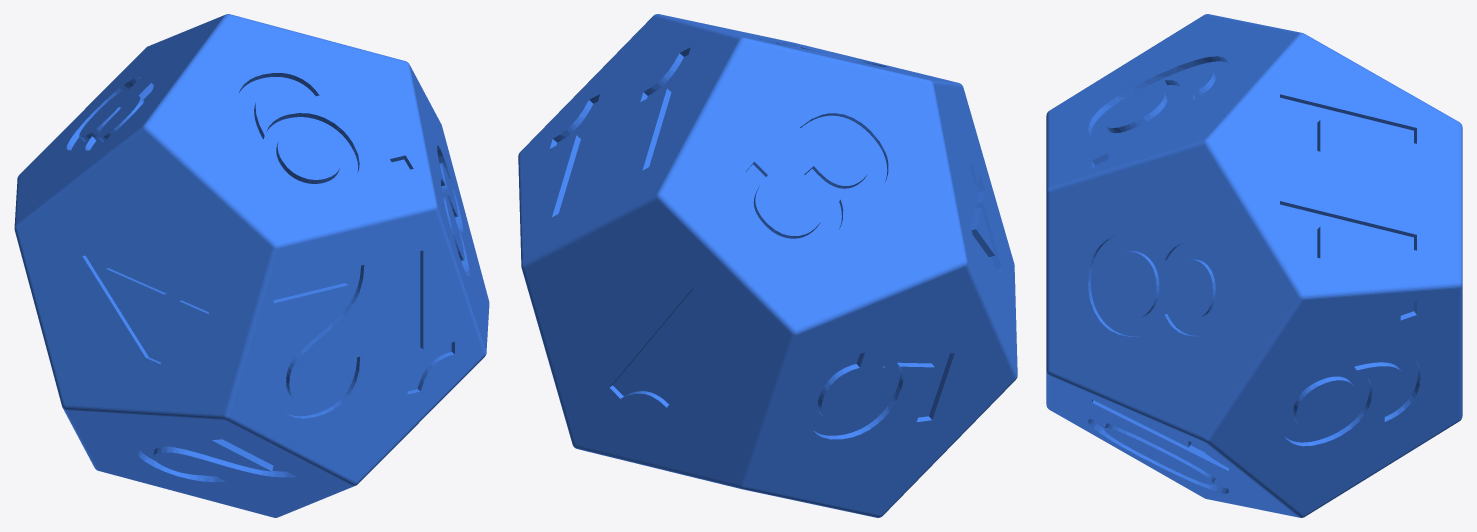
The picture shows the model from 3 angles, left to right: view 1: azimuth 30°, elevation 25°; view 2: azimuth 150°, elevation 25°; view 3: azimuth 270°, elevation 25°; orthographic projection. The views are drawn at different scales.
Size of the model in its own units: 23.49 by 24.67 by 20.
